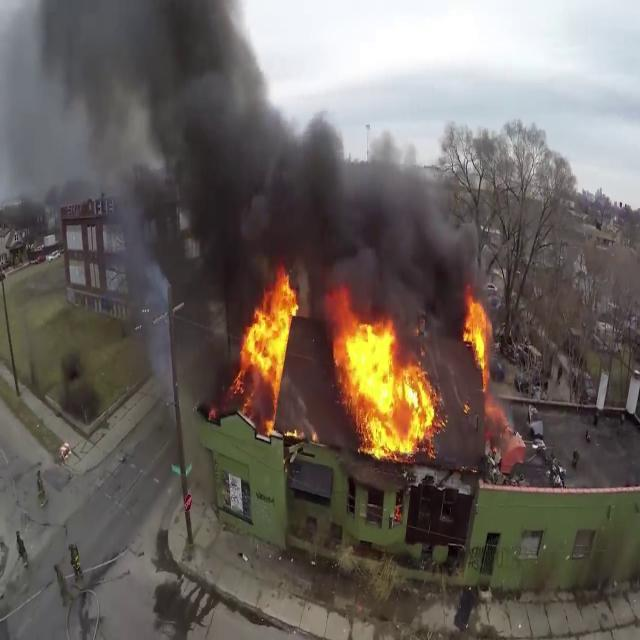Fire: (330, 312, 442, 460), (237, 269, 300, 416), (461, 286, 493, 381)
Smoke: (38, 0, 472, 333)
